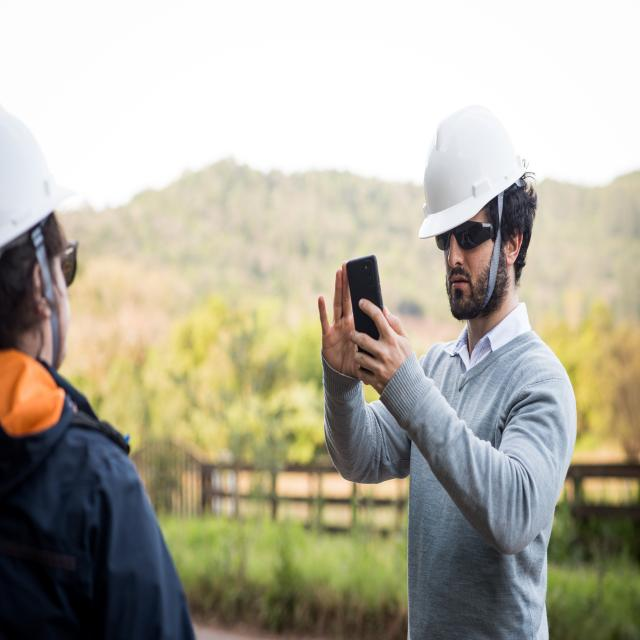capacete: (416, 100, 527, 242), (0, 99, 78, 250)
